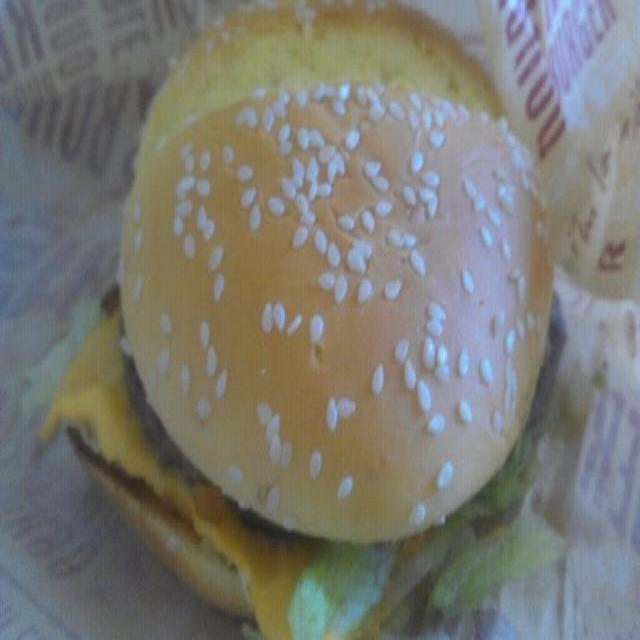Hamburger: (69, 10, 565, 628)
